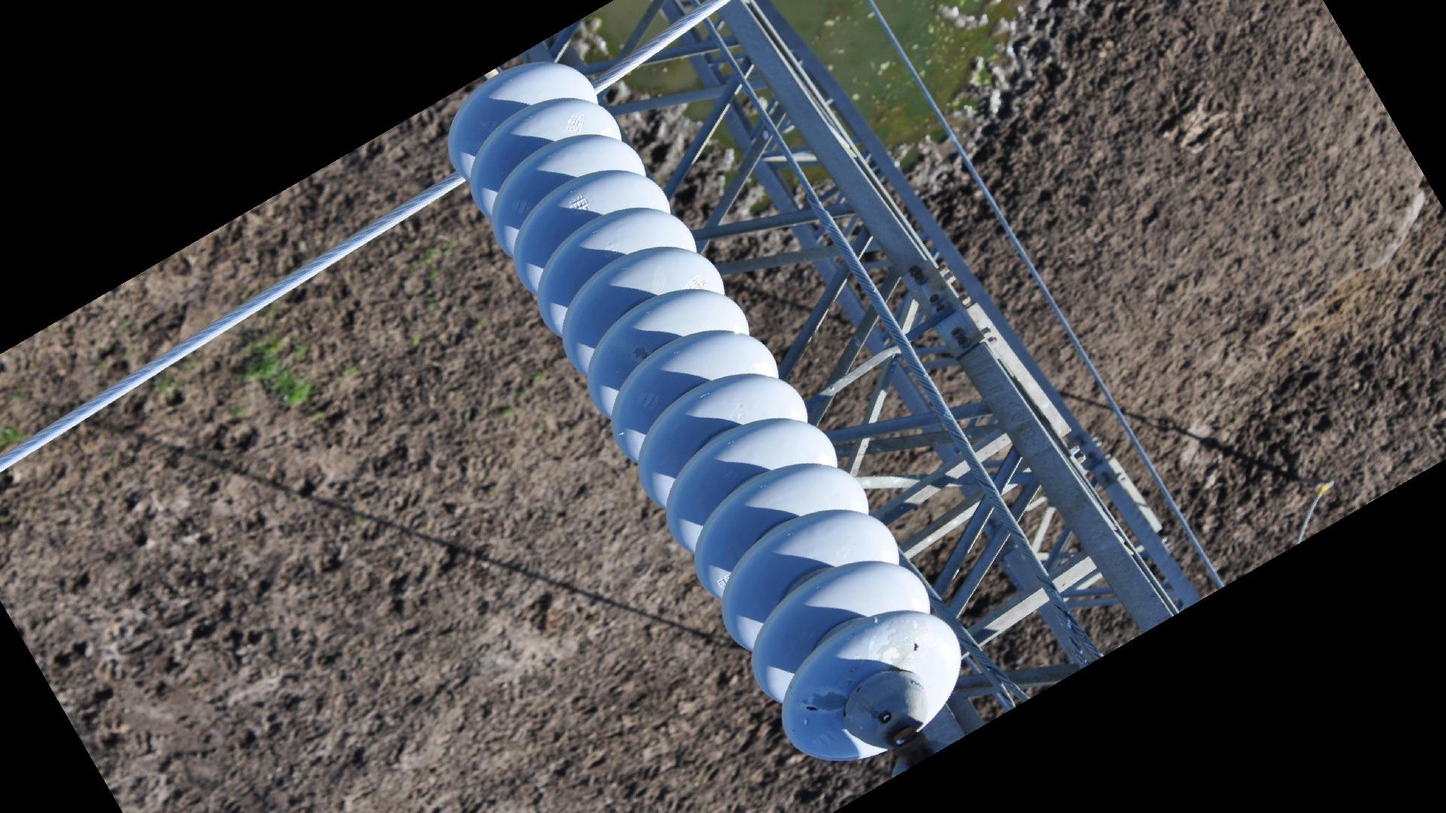insulator: (440, 56, 969, 768)
insulator_flashover: (877, 615, 959, 679), (805, 687, 851, 717)
